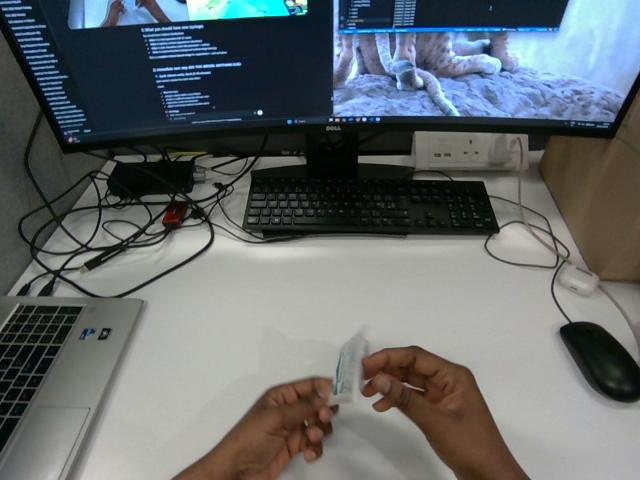gauze: (329, 328, 368, 404)
